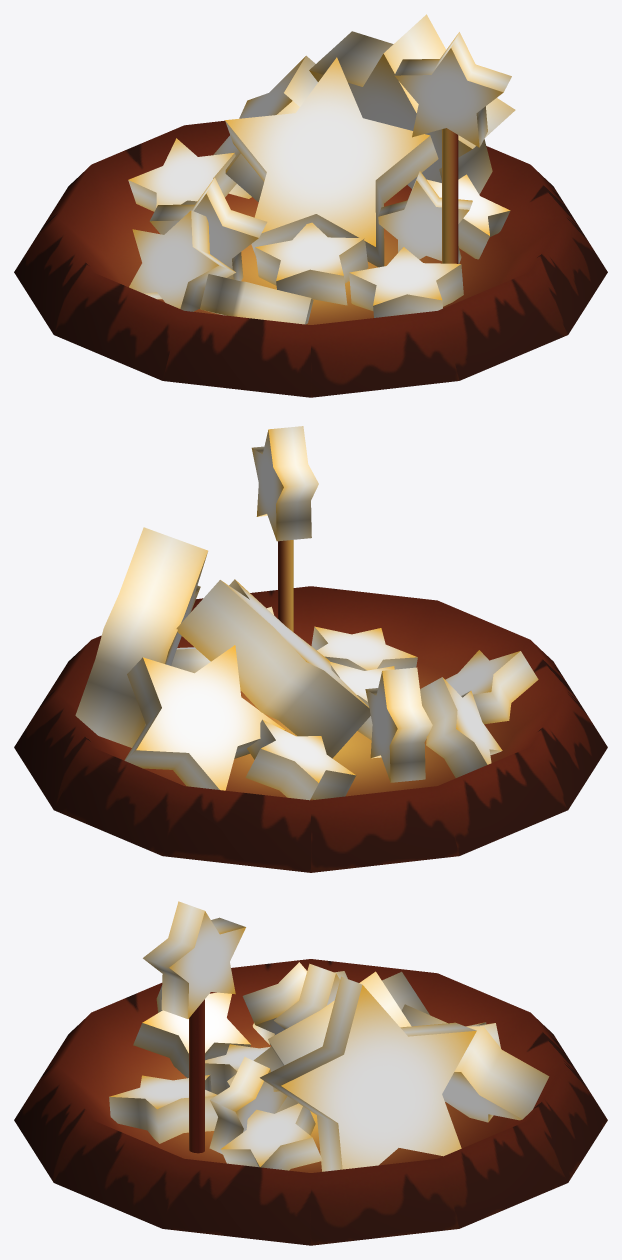
File: StarGroup_unwrap.FBX
3 renders of one model, top to bottom at view 1: azimuth 30°, elevation 25°; view 2: azimuth 150°, elevation 25°; view 3: azimuth 270°, elevation 25°, orthographic.
Parts seen in each view (by area): view 1: Cylinder001; view 2: Cylinder001; view 3: Cylinder001.
Boxes of the visible parts, box(x1,y1,x2,y2) form: Cylinder001: box(14, 14, 607, 397); Cylinder001: box(14, 426, 607, 872); Cylinder001: box(14, 901, 607, 1245).
Size of the model in its own units: 96.48 by 46.47 by 96.48.
Materials: 1 (1 with a texture image).
